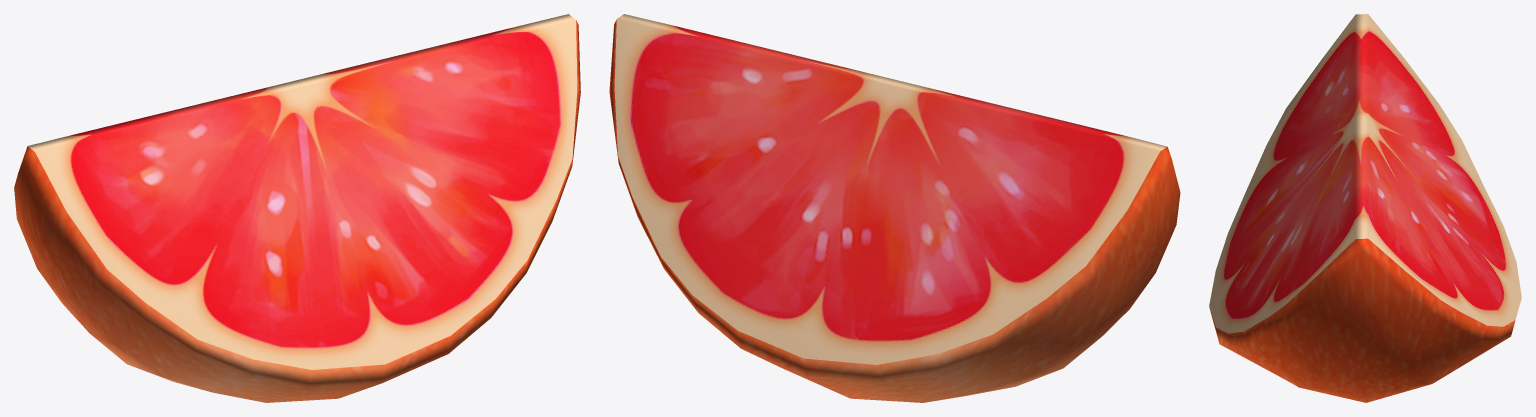
Rendered from Grapefruit_Quarter.fbx.
3 renders of one model, left to right at view 1: azimuth 30°, elevation 25°; view 2: azimuth 150°, elevation 25°; view 3: azimuth 270°, elevation 25°, orthographic. The views are drawn at different scales.
Parts seen in each view (by area): view 1: Grapefruit_Quarter; view 2: Grapefruit_Quarter; view 3: Grapefruit_Quarter.
Part boxes in pixels (x1,y1,x2,y2): Grapefruit_Quarter: [14, 14, 580, 402]; Grapefruit_Quarter: [609, 14, 1180, 402]; Grapefruit_Quarter: [1209, 14, 1521, 402].
Size of the model in its own units: 43.33 by 22.4 by 24.84.
Materials: 1 (1 with a texture image).
